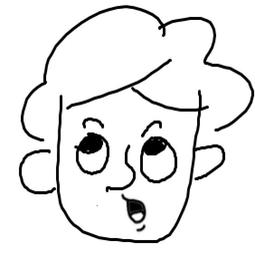ear: (16, 145, 62, 197), (184, 141, 230, 183)
eye: (140, 136, 181, 187), (71, 132, 112, 180)
eyebrow: (81, 114, 106, 130)
frowning_eyebrow: (140, 120, 164, 137)
nose: (101, 141, 138, 194)
open_mouth: (120, 194, 149, 234)
